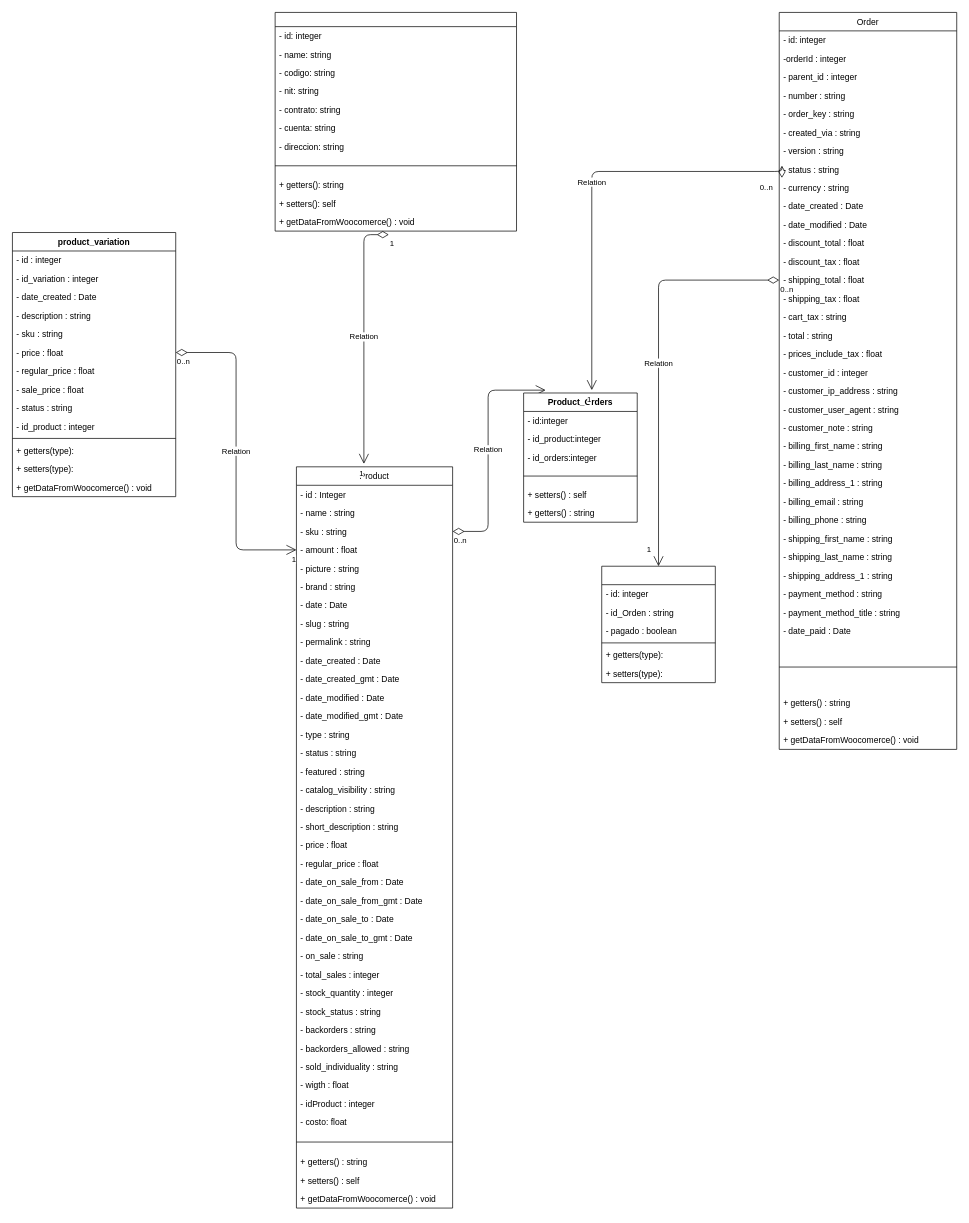
Some shapes in this 969 by 1223 pixel diagram are drawn without their labels. Here are the shapes that lost their labels. From the top down, the box of each, then its label:
(274, 12, 517, 231): Provider
(601, 566, 715, 683): liquidado
